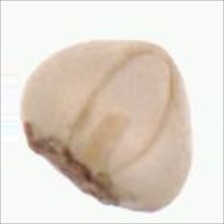L5: (70, 44, 178, 177), (21, 119, 124, 211)
L6: (17, 37, 196, 216)
